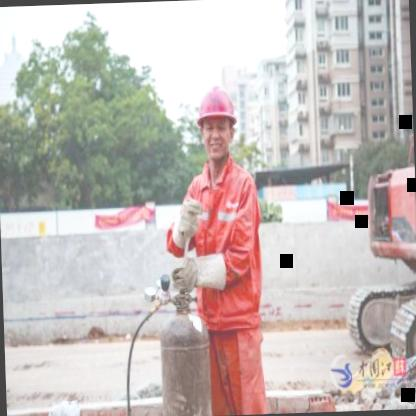helmet: (194, 78, 241, 166)
